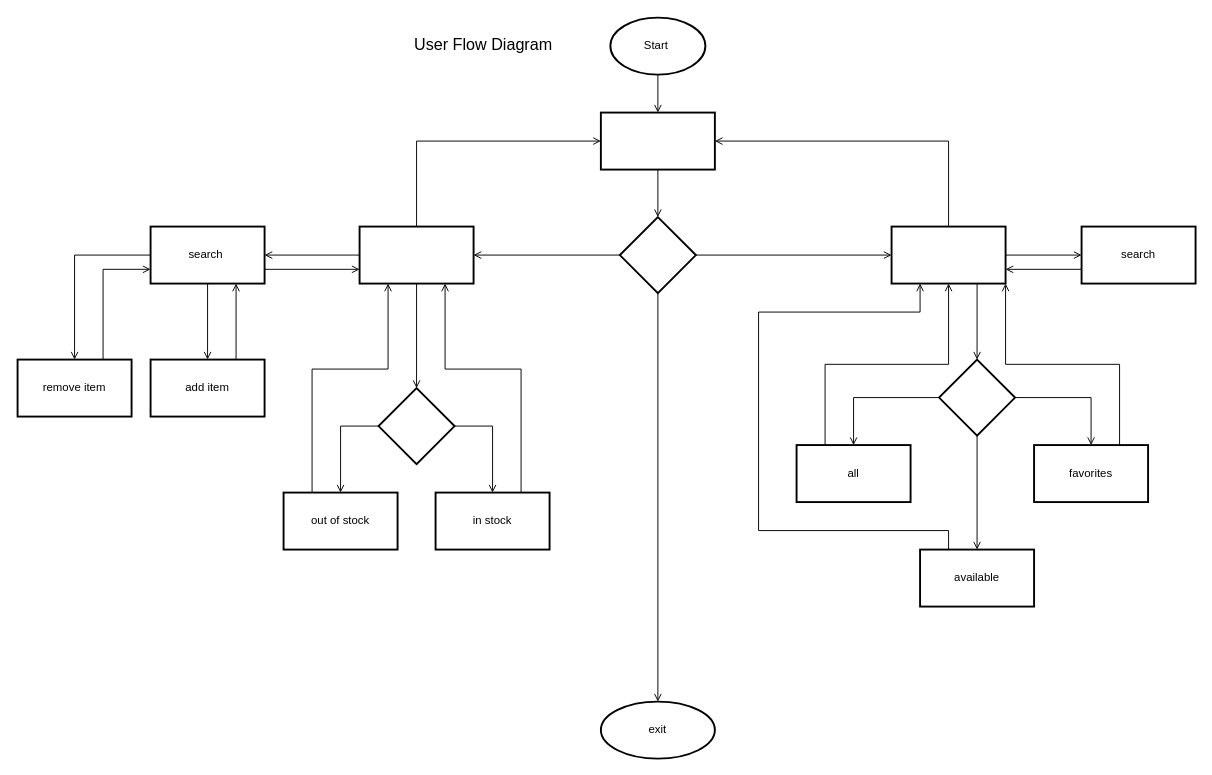
Image size: 1212x775. Some labels were removed from this diagram. Each missing label, with the box of its shape:
filter inventory: (377, 387, 455, 465)
filter recipes: (938, 358, 1016, 436)
Inventory: (358, 225, 474, 284)
main menu: (599, 111, 715, 170)
Recipes: (890, 225, 1006, 284)
select option: (618, 216, 696, 294)
